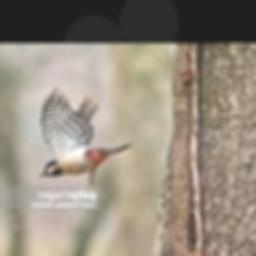Woodpecker: (39, 86, 133, 184)
